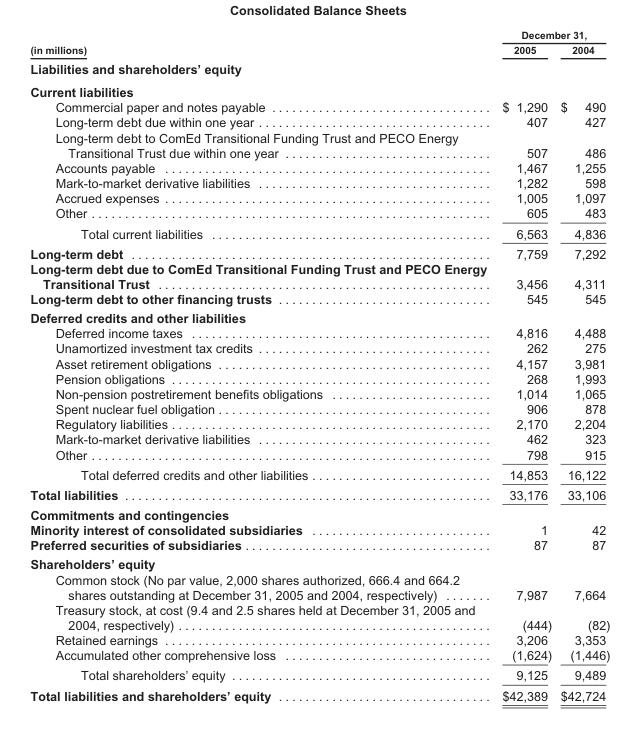table: (29, 28, 609, 702)
table column: (29, 28, 493, 702), (493, 28, 555, 702), (555, 28, 609, 702)
table column header: (29, 28, 609, 58)
table projected row header: (29, 58, 609, 80), (29, 80, 609, 99), (29, 504, 609, 522), (29, 308, 609, 325), (29, 554, 609, 571)
table row: (29, 260, 609, 291), (29, 601, 609, 632), (29, 129, 609, 159), (29, 571, 609, 601), (29, 58, 609, 80), (29, 222, 609, 243), (29, 464, 609, 484), (29, 484, 609, 504), (29, 664, 609, 684), (29, 80, 609, 99), (29, 446, 609, 464), (29, 504, 609, 522), (29, 684, 609, 702), (29, 41, 609, 58), (29, 205, 609, 222), (29, 243, 609, 260), (29, 291, 609, 308), (29, 308, 609, 325), (29, 537, 609, 554), (29, 554, 609, 571), (29, 647, 609, 664), (29, 159, 609, 175), (29, 385, 609, 401), (29, 99, 609, 114), (29, 114, 609, 129), (29, 175, 609, 190), (29, 190, 609, 205), (29, 325, 609, 340), (29, 340, 609, 355), (29, 355, 609, 370), (29, 370, 609, 385), (29, 401, 609, 416), (29, 416, 609, 431), (29, 431, 609, 446), (29, 522, 609, 537), (29, 632, 609, 647), (29, 28, 609, 41)
table spanning cell: (29, 28, 493, 58), (493, 28, 609, 41)
